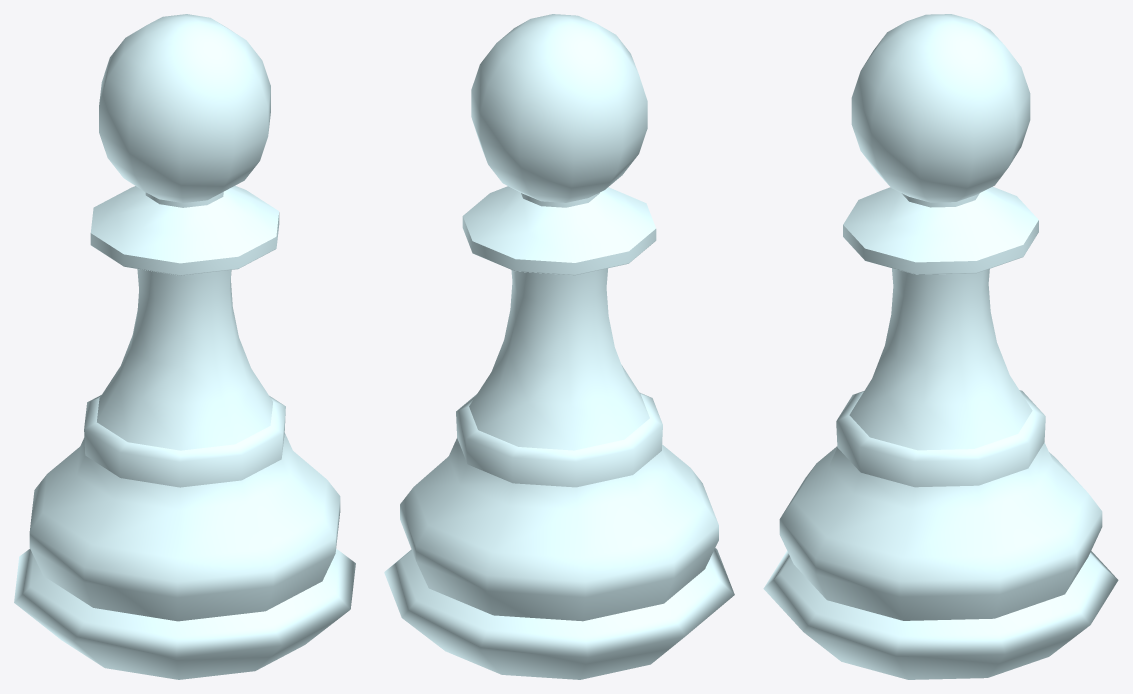
The model's file is item-0-2.glb.
3 renders of one model, left to right at view 1: azimuth 30°, elevation 25°; view 2: azimuth 150°, elevation 25°; view 3: azimuth 270°, elevation 25°, orthographic.
Parts seen in each view (by area): view 1: BlackPawn; view 2: BlackPawn; view 3: BlackPawn.
Part boxes in pixels (x1,y1,x2,y2): BlackPawn: (14,14,355,679); BlackPawn: (384,14,734,679); BlackPawn: (763,14,1118,679).
Bounding box in the file's own units: 0.0889 × 0.1731 × 0.0918.
